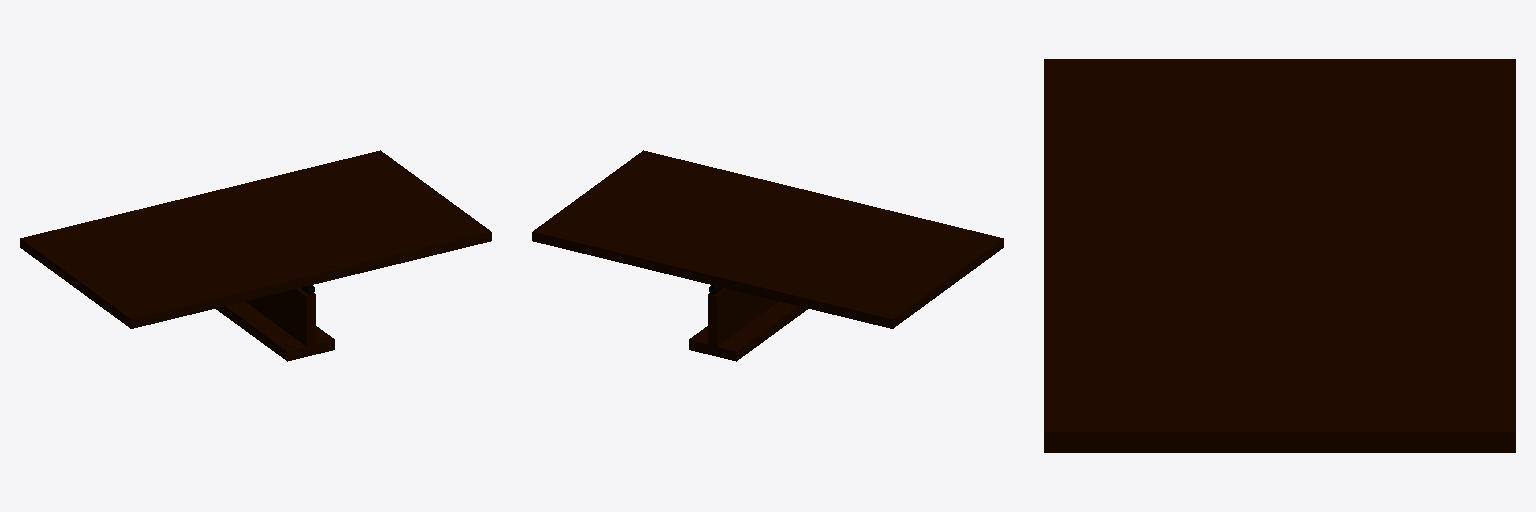
The robot description file, URDF, robot "seesaw":
<?xml version="1.0" ?>
<robot name="seesaw">

	<link name="base">
		<visual>
			<geometry>
				<mesh filename="package://mc_int_obj_description/meshes/seesaw/base.dae" />
			</geometry>
		</visual>
	</link>

	<link name="board">
		<inertial>
			<origin xyz="0 0 0.05875" rpy="0 0 0" />
                        <mass value="21."/>
                        <inertia ixx="1.121" ixy="0" ixz="0"
                                iyy="3.939" iyz="0"
                                izz="5.058" />
	        </inertial>
		<visual>
			<geometry>
				<mesh filename="package://mc_int_obj_description/meshes/seesaw/board.dae" />
			</geometry>
		</visual>
	</link>

	<joint name="board" type="revolute">
		<axis xyz="0 1 0"/>
		<limit effort="0" velocity="100" lower="-3.141592653589793" upper="3.141592653589793" />
		<parent link="base" />
		<child link="board" />
		<origin rpy="0.0 0.0 0.0" xyz="0.0 0.0 0.0" />
	</joint>

</robot>

--- Render facts (derived) ---
The picture shows the robot from 3 angles, left to right: view 1: azimuth 30°, elevation 25°; view 2: azimuth 150°, elevation 25°; view 3: azimuth 270°, elevation 25°; orthographic projection.
Model seesaw with 2 links and 1 joints (1 revolute), rooted at base, posed all joints at 0.
Links seen in each view (by area): view 1: board, base; view 2: board, base; view 3: board.
Link boxes in pixels (x1,y1,x2,y2): board: (20,150,491,328); base: (216,288,334,361); board: (532,150,1003,328); base: (689,288,807,361); board: (1044,59,1515,452).
Size in the robot's own frame: 1.5 by 0.8 by 0.3191 metres.
2 mesh visuals loaded from 2 distinct referenced files (2 Collada DAE).